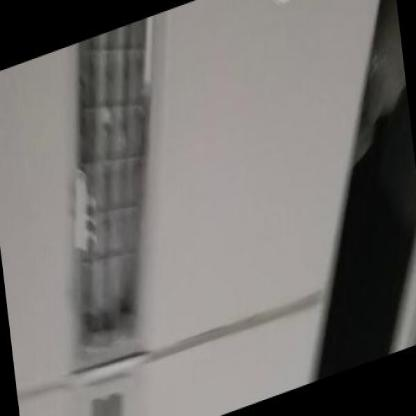light_off: (21, 0, 218, 391)
